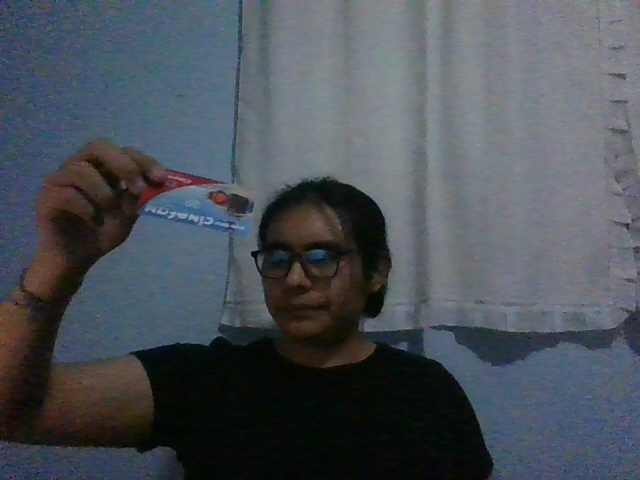tarjeta: (135, 168, 257, 236)
